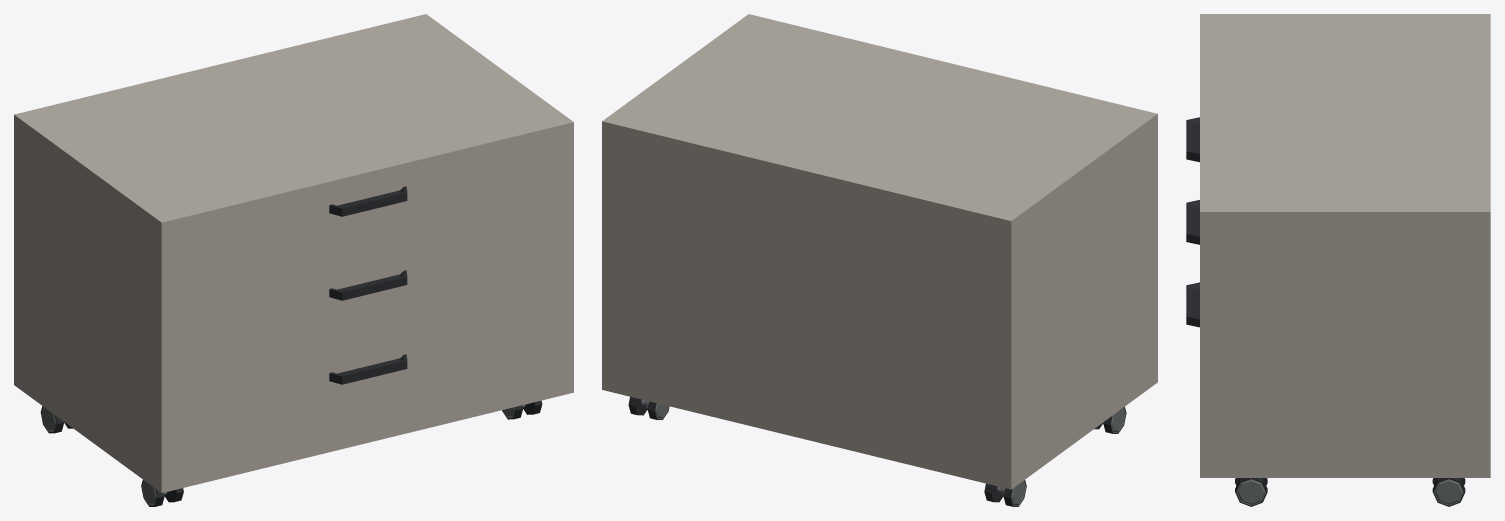
Rendered from SM_Ambry_Large.gltf.
3 views of the same model, side by side, from view 1: azimuth 30°, elevation 25°; view 2: azimuth 150°, elevation 25°; view 3: azimuth 270°, elevation 25° (orthographic).
Visible parts, largest first — view 1: SM_Ambry_Large, SM_Shelf_For_Locker_03_Large, SM_Shelf_For_Locker_01_Large, SM_Shelf_For_Locker_02_Large; view 2: SM_Ambry_Large; view 3: SM_Ambry_Large, SM_Shelf_For_Locker_03_Large, SM_Shelf_For_Locker_02_Large, SM_Shelf_For_Locker_01_Large.
Boxes of the visible parts, x1,y1,x2,y2 form: SM_Ambry_Large: [14, 14, 573, 506]; SM_Shelf_For_Locker_03_Large: [156, 299, 573, 492]; SM_Shelf_For_Locker_01_Large: [156, 131, 573, 315]; SM_Shelf_For_Locker_02_Large: [156, 215, 573, 399]; SM_Ambry_Large: [602, 14, 1157, 506]; SM_Ambry_Large: [1200, 14, 1490, 506]; SM_Shelf_For_Locker_03_Large: [1186, 282, 1209, 477]; SM_Shelf_For_Locker_02_Large: [1186, 200, 1209, 386]; SM_Shelf_For_Locker_01_Large: [1186, 117, 1209, 303].
Size of the model in its own units: 1 by 0.7111 by 0.6501.
